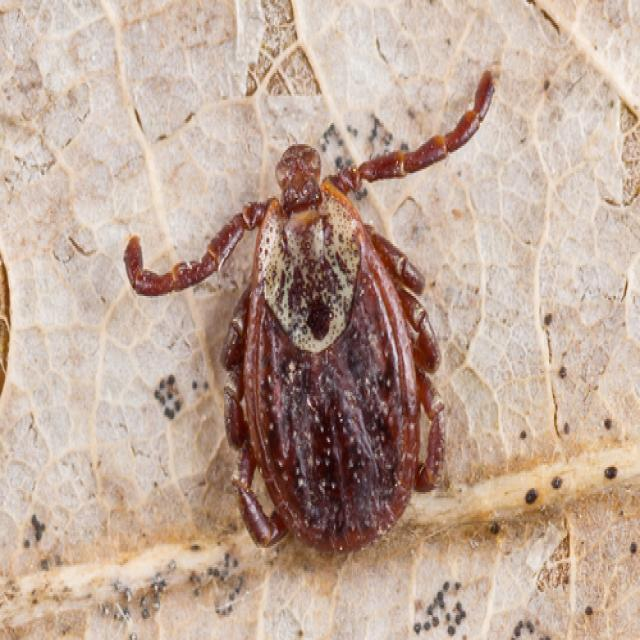Dermacentor Reticulatus-F: (127, 75, 492, 554)
